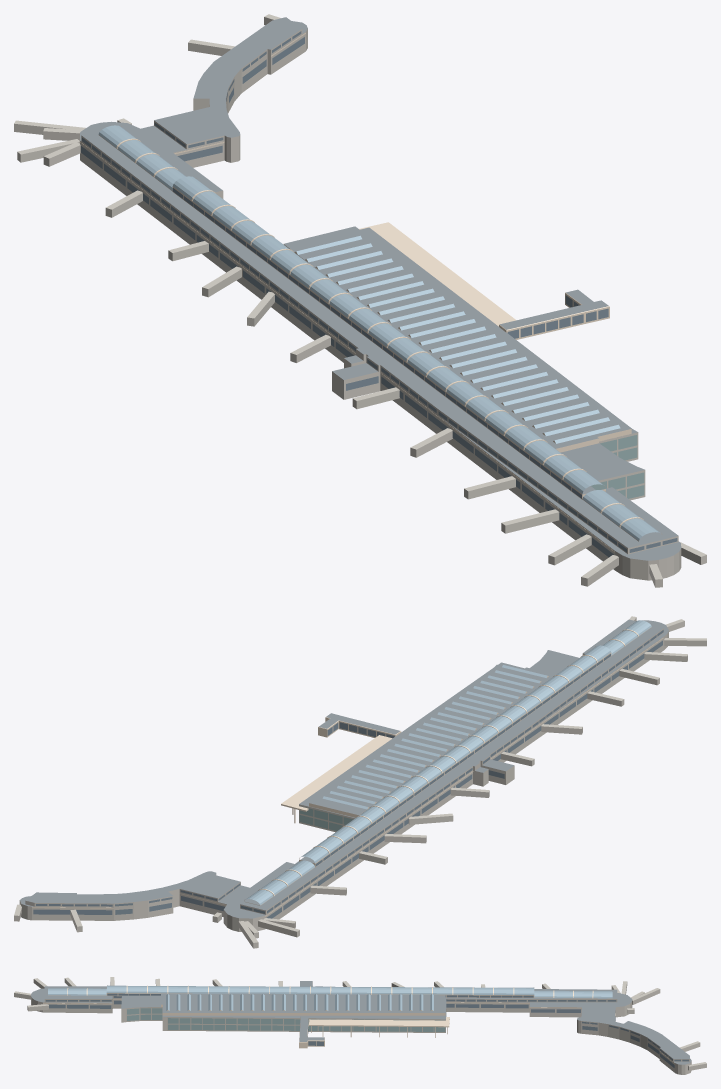
The model's file is chi-ohare-terminal-1.glb.
3 views of the same model, one above another, from view 1: azimuth 30°, elevation 25°; view 2: azimuth 150°, elevation 25°; view 3: azimuth 270°, elevation 25° (orthographic). The views are drawn at different scales.
Visible parts, largest first — view 1: O'Hare Terminal 1 and Concourse B; view 2: O'Hare Terminal 1 and Concourse B; view 3: O'Hare Terminal 1 and Concourse B.
Boxes of the visible parts, box(x1,y1,x2,y2) form: O'Hare Terminal 1 and Concourse B: box(14, 14, 706, 587); O'Hare Terminal 1 and Concourse B: box(14, 616, 706, 948); O'Hare Terminal 1 and Concourse B: box(14, 977, 706, 1074).
Bounding box in the file's own units: 184 × 19.2 × 601.
